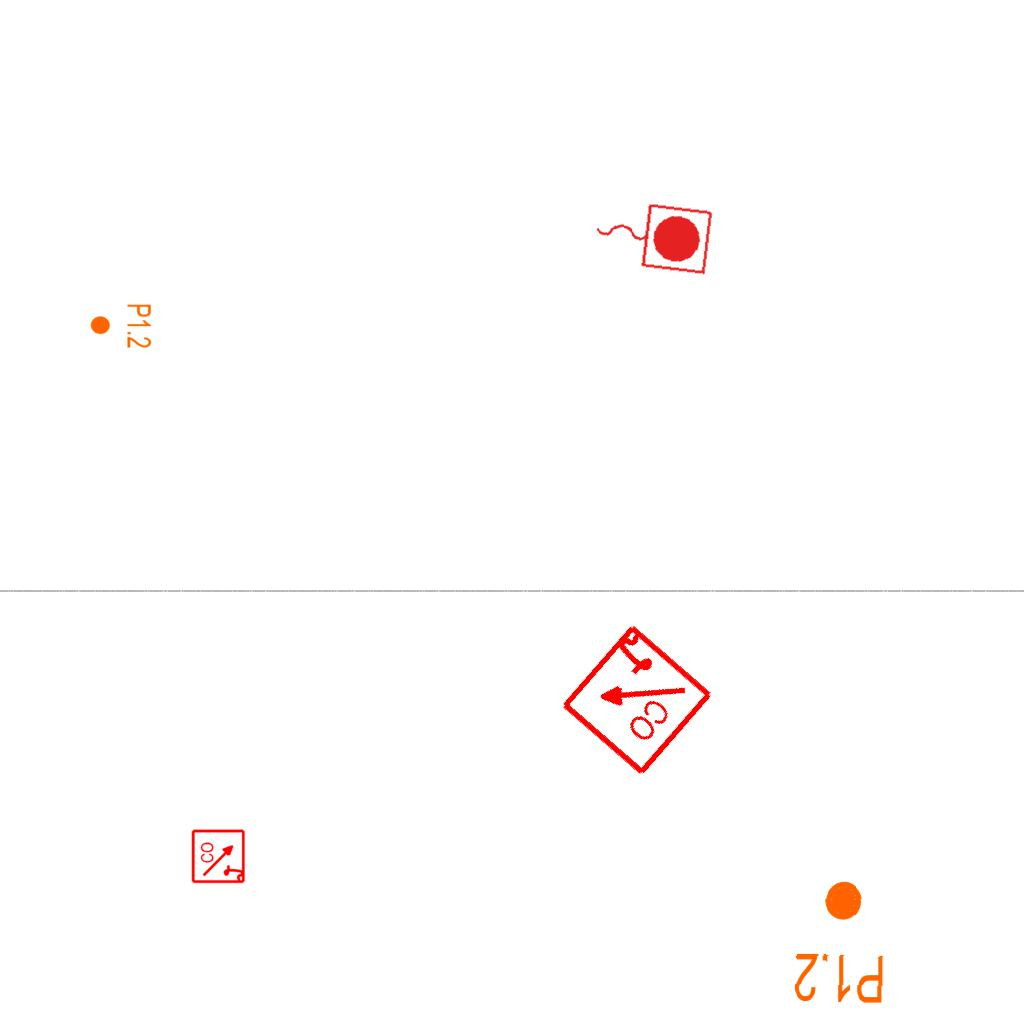Downlight_LED_Einbauleuchten_Flur: (791, 876, 890, 1008), (89, 303, 153, 349)
ROA_Rauchmelder_optisch_mit_Signalgeber_(Sockelsirene): (555, 619, 716, 780), (191, 828, 247, 884)
Zugtaster: (587, 191, 717, 279)
